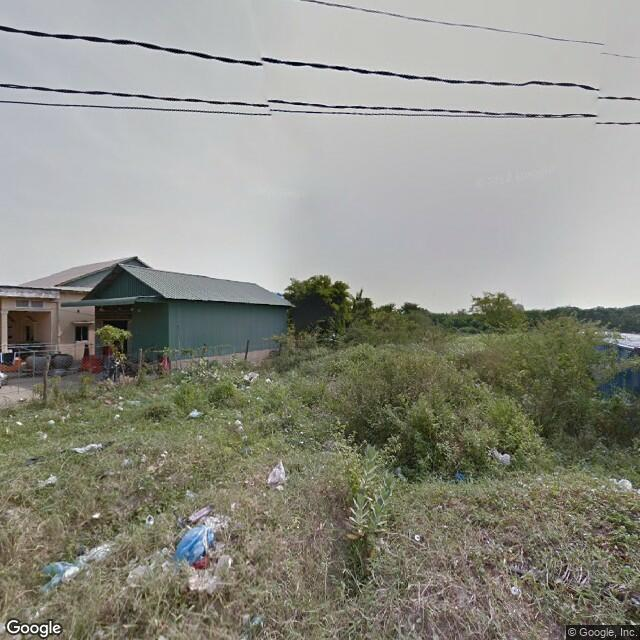litter: (177, 507, 232, 591), (24, 555, 116, 590), (474, 440, 521, 473), (586, 472, 640, 500), (261, 461, 290, 488), (67, 441, 111, 453), (41, 470, 58, 492), (453, 465, 469, 487), (233, 415, 248, 436), (239, 371, 258, 387), (186, 408, 202, 420)
